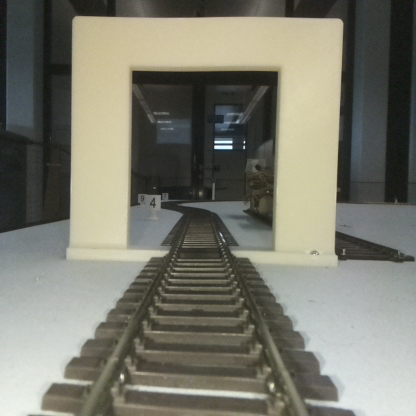white-stop-4: (145, 194, 160, 220)
white-stop-9: (138, 193, 145, 207)
